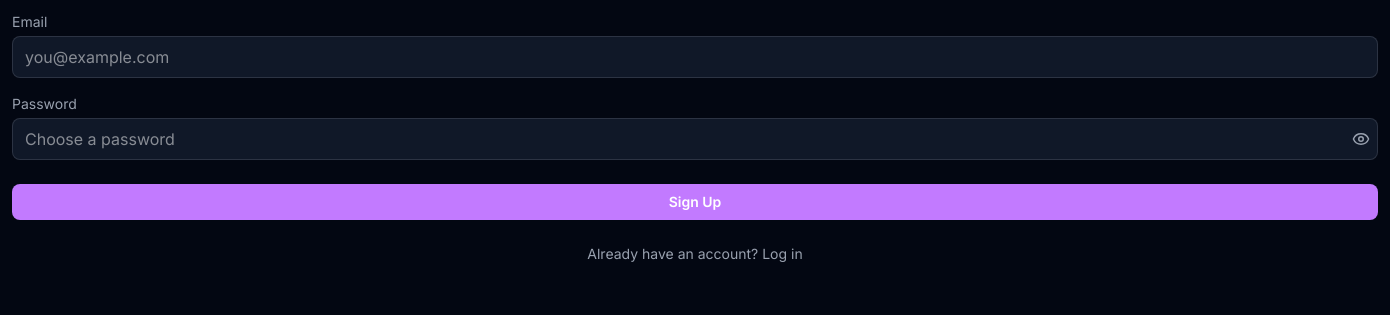
SignupForm › displays error message when signup fails
The width and height of the screenshot is (1390, 315).
Type "test@example.com" into the field labelled "Email" at (695, 57), box [12,36,1378,78]
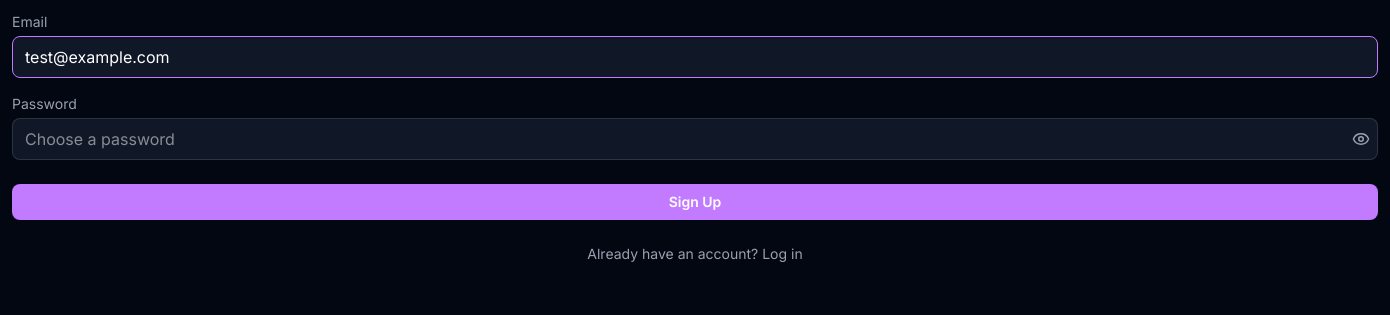
Type "secret123" into the password field labelled "Password" at (695, 139), box [12,118,1378,160]
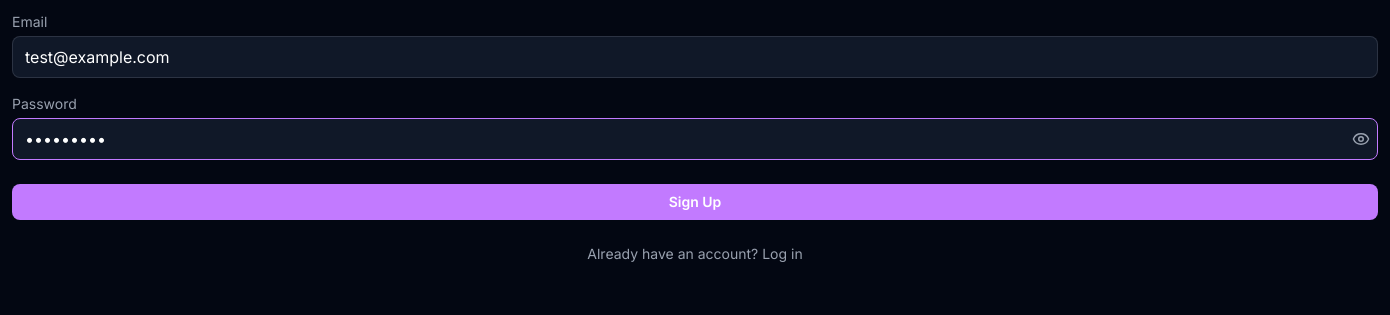
Click the button "Sign Up" at (695, 202), box [12,184,1378,220]
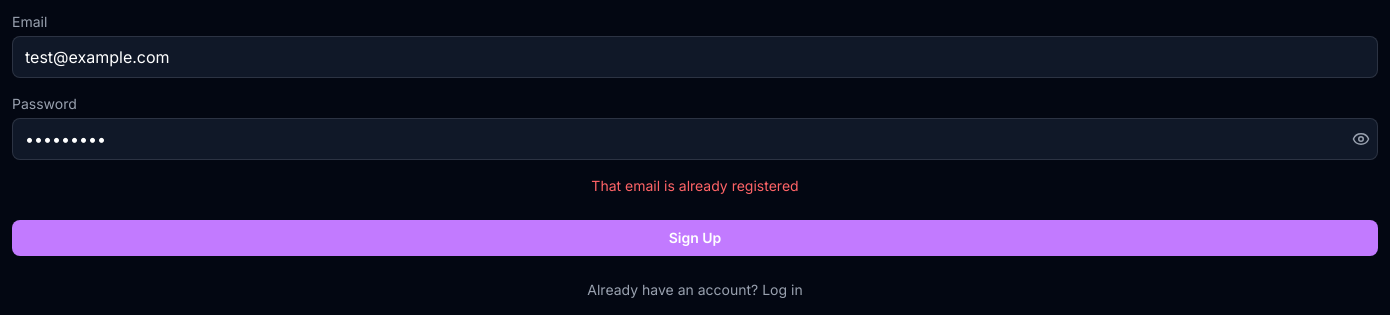
Result: the message reads "That email is already registered" at [591,177,799,194]
